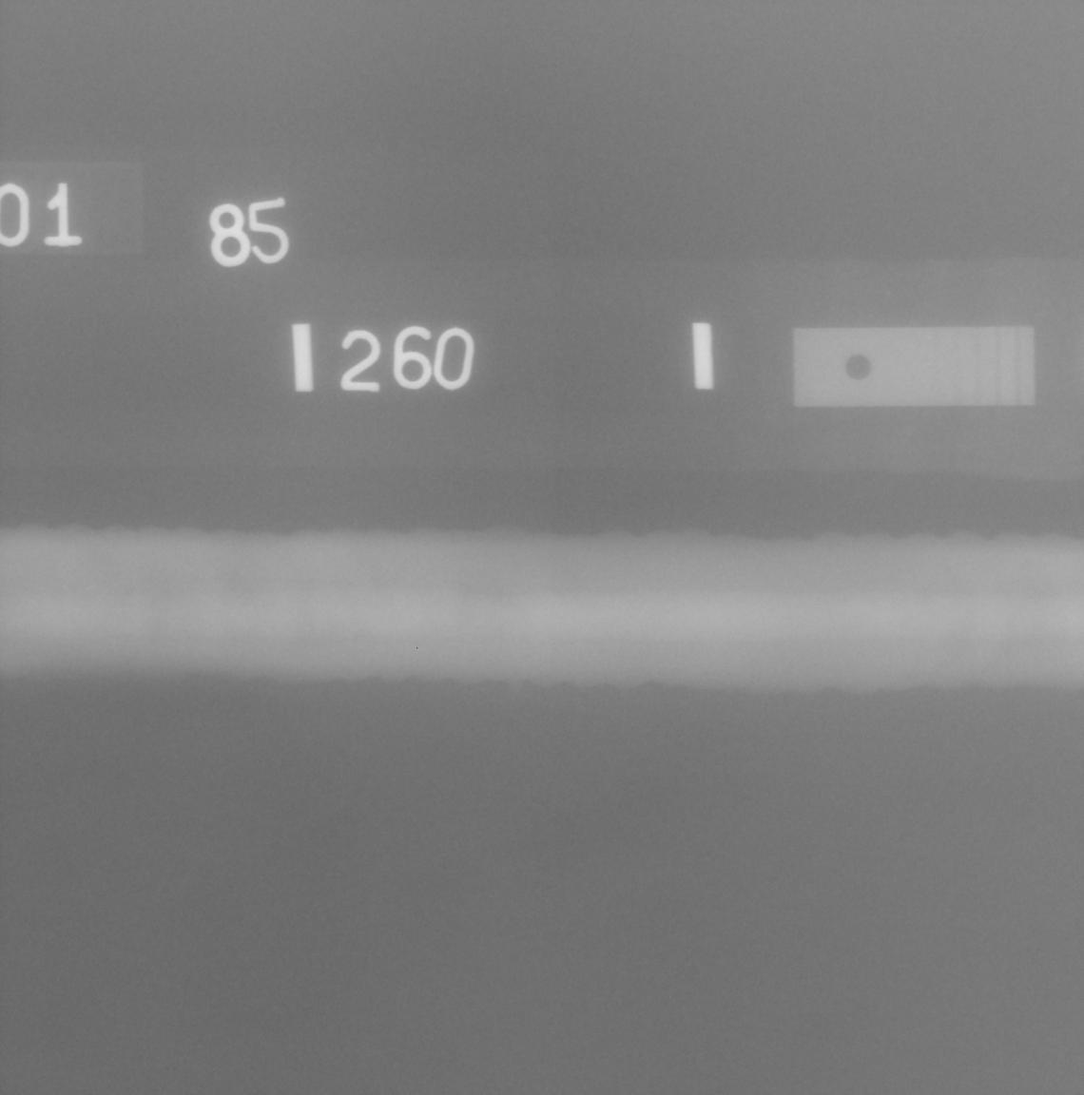Reference Standard 1: (794, 326, 1036, 407)
